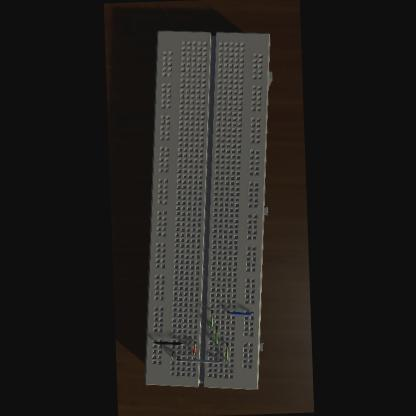breadboard: (132, 26, 282, 393)
wire: (177, 355, 220, 364), (152, 339, 182, 346), (226, 310, 251, 316), (214, 326, 218, 346), (224, 343, 228, 362), (209, 310, 212, 328), (192, 341, 194, 354), (171, 352, 173, 360)
